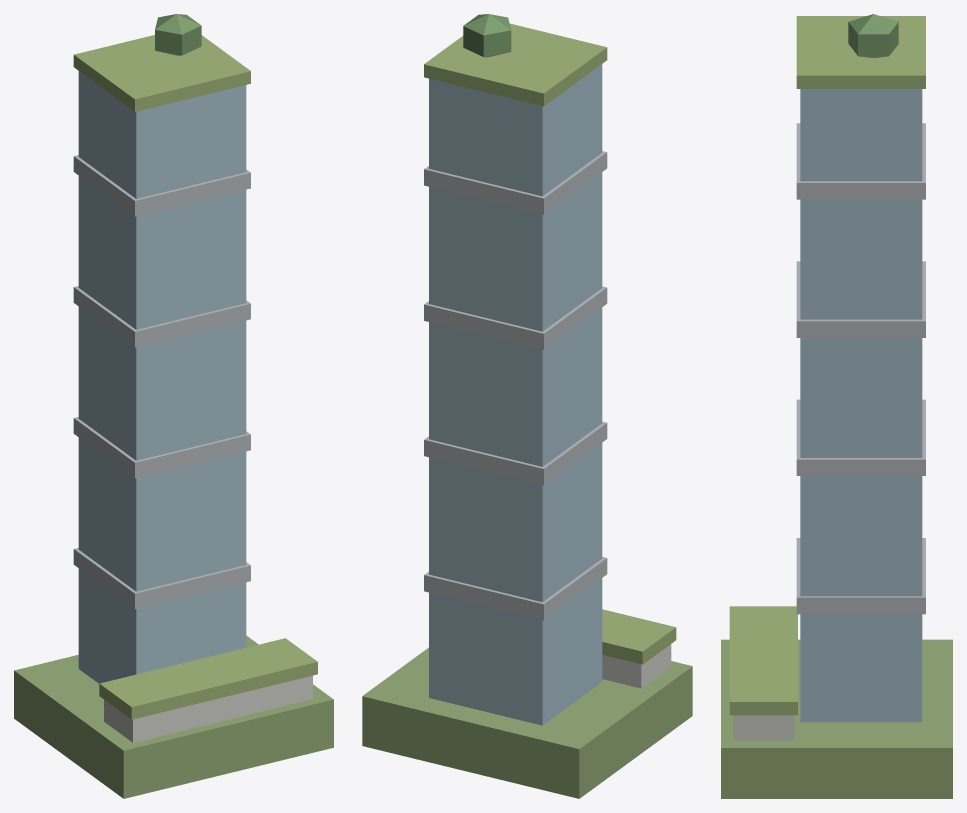
File: house-information-0.glb
3 views of the same model, side by side, from view 1: azimuth 30°, elevation 25°; view 2: azimuth 150°, elevation 25°; view 3: azimuth 270°, elevation 25° (orthographic). The views are drawn at different scales.
Parts seen in each view (by area): view 1: LOD0; view 2: LOD0; view 3: LOD0.
Part boxes in pixels (x1,y1,x2,y2): LOD0: (14, 14, 333, 798); LOD0: (362, 14, 692, 798); LOD0: (721, 14, 952, 798).
Size of what is drawn, in the model's own units: 0.21 by 0.67 by 0.19.
